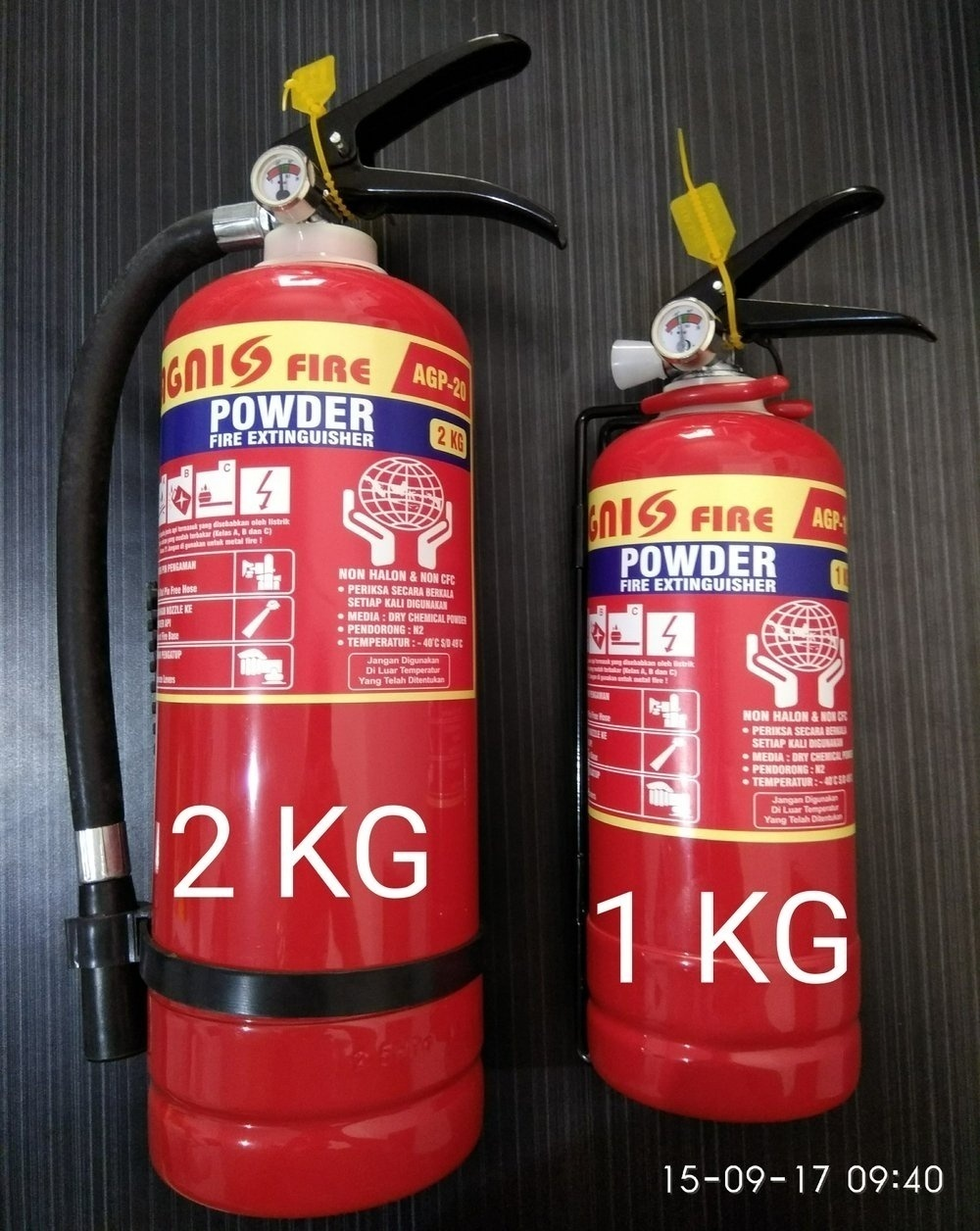fire_extinguisher: (55, 31, 568, 1220), (574, 129, 938, 1125)
